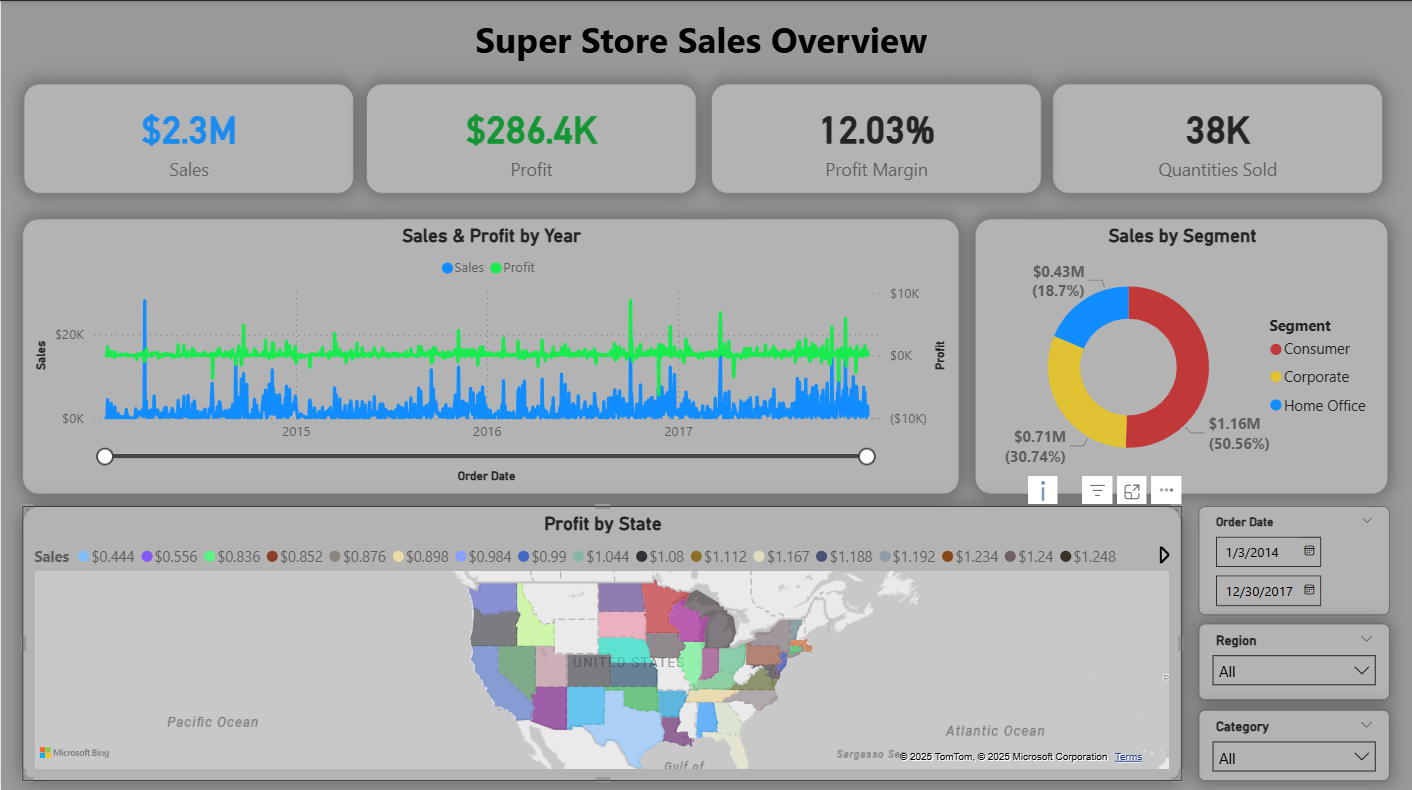

The page's visual inventory and layout, read from the dashboard file:
{"tool":"powerbi","page":{"name":"Overview","canvas":[1280,720],"ordinal":0},"visuals":[{"type":"textbox","box":[425.6,8.1,436,57],"z":0},{"type":"card","fields":{"Values":["Sum(Superstore_clean.Sales)"]},"box":[20,75,300,100],"z":1000},{"type":"card","fields":{"Values":["Sum(Superstore_clean.Profit)"]},"box":[331.4,74.4,300,100],"z":2000},{"type":"card","fields":{"Values":["Sum(Superstore_clean.Quantity)"]},"box":[953.5,74.4,300,100],"z":3000},{"type":"card","fields":{"Values":["Avg(Superstore_clean.Profit Margin)"]},"box":[644.2,74.4,300,100],"z":4000},{"type":"lineChart","title":"Sales & Profit by Year","fields":{"Category":["Superstore_clean.Order Date"],"Y":["Sum(Superstore_clean.Sales)"],"Y2":["Sum(Superstore_clean.Profit)"]},"box":[19.8,197.7,850,250],"z":5000},{"type":"donutChart","fields":{"Category":["Superstore_clean.Segment"],"Y":["Sum(Superstore_clean.Sales)"]},"box":[883.7,197.7,375.6,250],"z":6000},{"type":"filledMap","title":"Profit by State","fields":{"Category":["Superstore_clean.State"],"Series":["Superstore_clean.Sales"],"Y":["Avg(Superstore_clean.Profit)"]},"box":[19.8,458.1,1052.3,250],"z":7000},{"type":"slicer","fields":{"Values":["Superstore_clean.Order Date"]},"box":[1086,458.1,173.3,98.8],"z":7001},{"type":"slicer","fields":{"Values":["Superstore_clean.Region"]},"box":[1086,565.1,173.3,69.8],"z":7002},{"type":"slicer","fields":{"Values":["Superstore_clean.Category"]},"box":[1086,643,173.3,65.1],"z":7003}]}

Visuals, with their boxes in screenshot pixels (x1, y1, x2, y2), scaled from the page's 1280x720 canvas onto the 1412x790 screenshot:
textbox: crop(469, 9, 950, 71)
card - Sum(Superstore_clean.Sales): crop(22, 82, 353, 192)
card - Sum(Superstore_clean.Profit): crop(366, 82, 697, 191)
card - Sum(Superstore_clean.Quantity): crop(1052, 82, 1383, 191)
card - Avg(Superstore_clean.Profit Margin): crop(711, 82, 1042, 191)
"Sales & Profit by Year" lineChart: crop(22, 217, 959, 491)
donutChart - Superstore_clean.Segment x Sum(Superstore_clean.Sales): crop(975, 217, 1389, 491)
"Profit by State" filledMap: crop(22, 503, 1183, 777)
slicer - Superstore_clean.Order Date: crop(1198, 503, 1389, 611)
slicer - Superstore_clean.Region: crop(1198, 620, 1389, 697)
slicer - Superstore_clean.Category: crop(1198, 706, 1389, 777)
